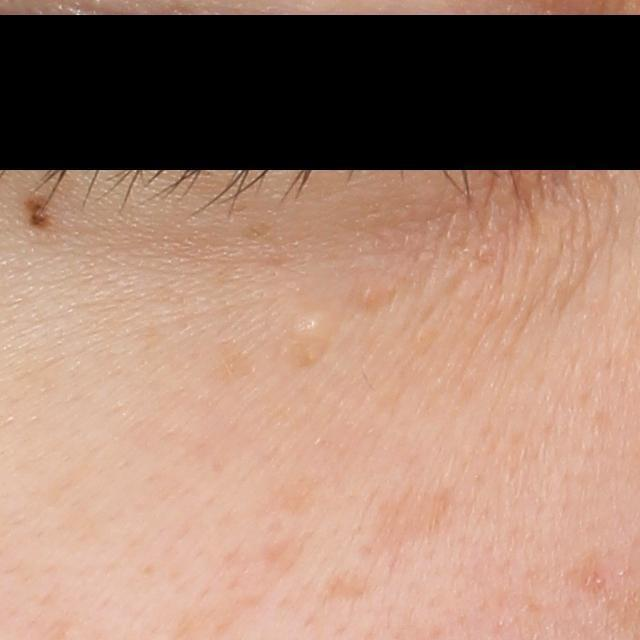melasma: (348, 484, 464, 556), (262, 470, 331, 522), (209, 332, 265, 384)
nevus: (15, 191, 51, 231)
